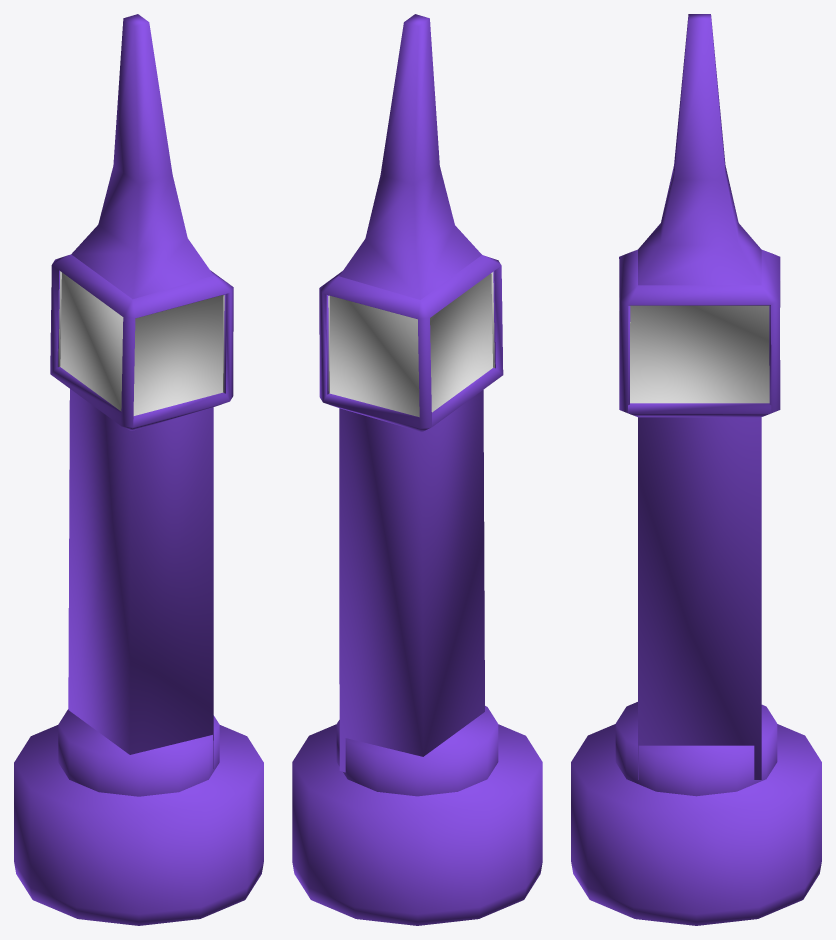
The model's file is torre_mesh.fbx.
The picture shows the model from 3 angles, left to right: view 1: azimuth 30°, elevation 25°; view 2: azimuth 150°, elevation 25°; view 3: azimuth 270°, elevation 25°; orthographic projection.
Visible parts, largest first — view 1: torre_mesh.001; view 2: torre_mesh.001; view 3: torre_mesh.001.
Part boxes in pixels (x1=…): torre_mesh.001: x1=14, y1=14, x2=263, y2=925; torre_mesh.001: x1=292, y1=14, x2=542, y2=925; torre_mesh.001: x1=571, y1=14, x2=821, y2=925.
Size of the model in its own units: 1523 by 5750 by 1523.
